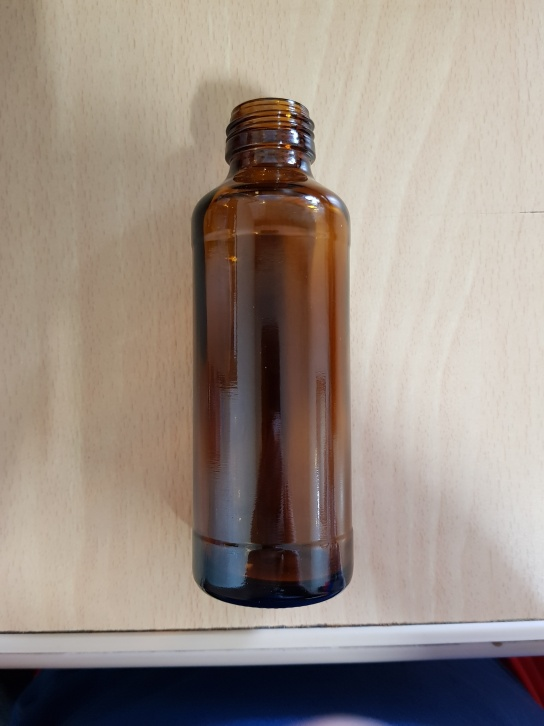Glass: (191, 99, 354, 609)
